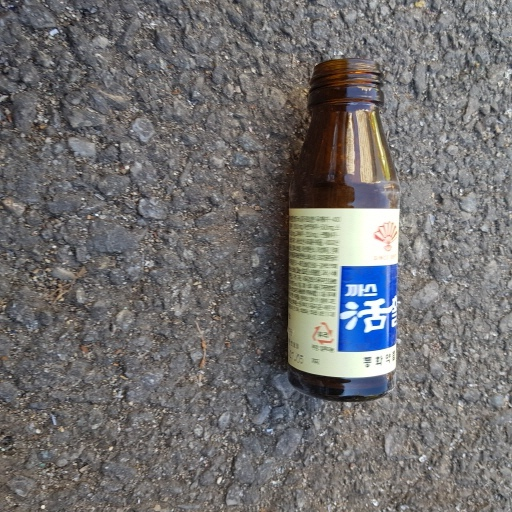Glass_3: (273, 54, 402, 404)
